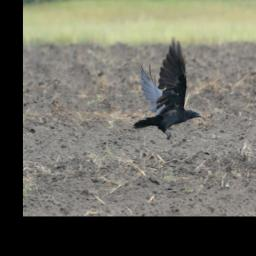Crow: (132, 35, 204, 142)
